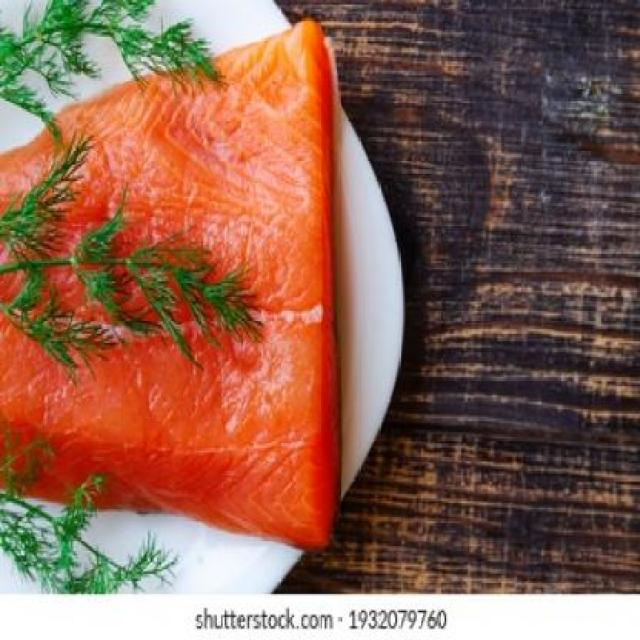salmon: (12, 16, 383, 568)
